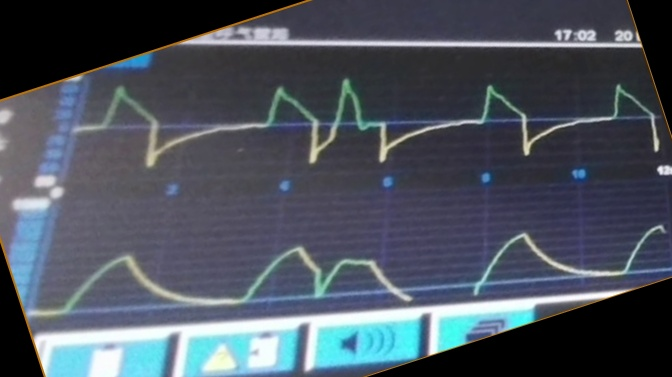Double_Triggering Flow: (91, 76, 651, 168)
Double_Triggering Volume: (89, 221, 663, 306)
